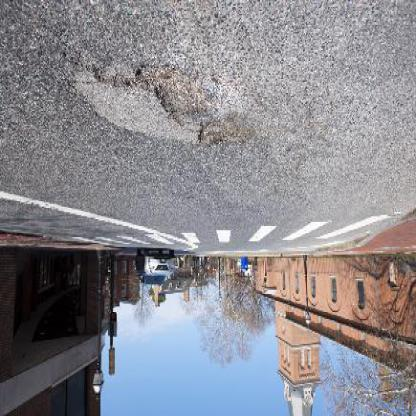pothole: (133, 61, 205, 125), (197, 116, 257, 151)
